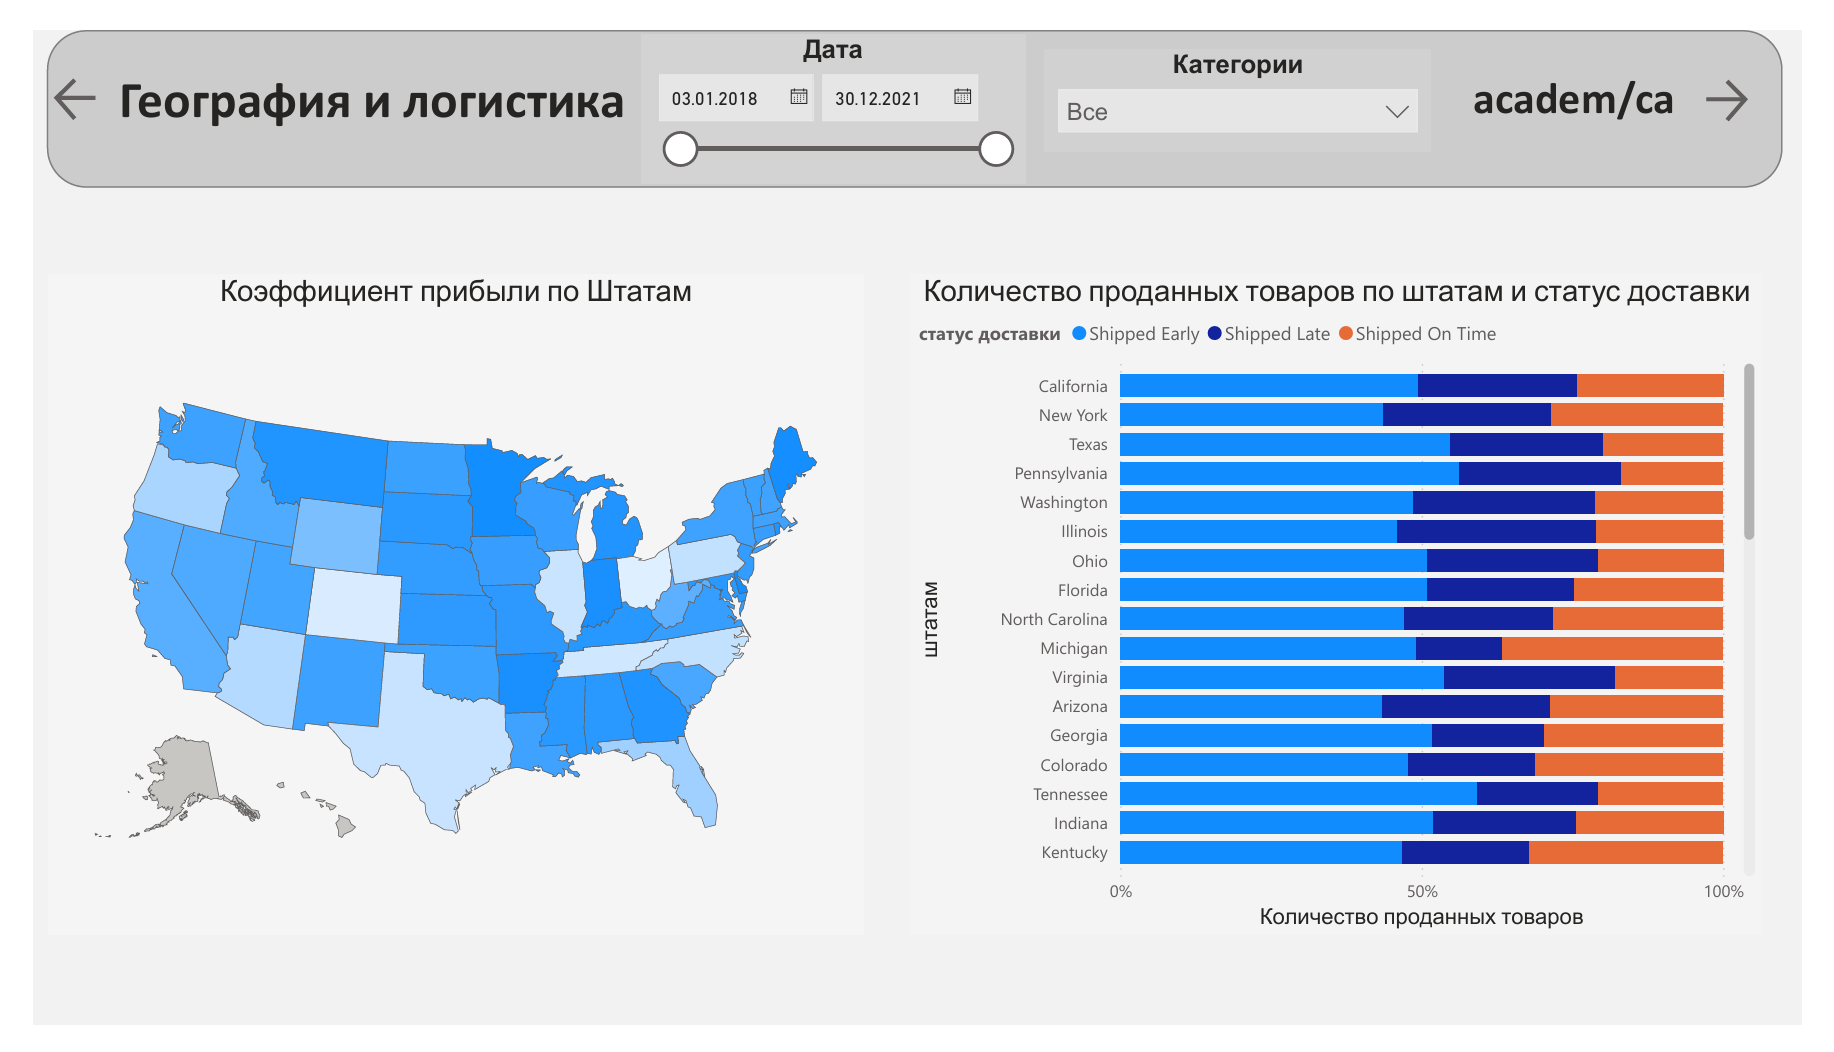

The page's visual inventory and layout, read from the dashboard file:
{"tool":"powerbi","page":{"name":"География","canvas":[1280,720],"ordinal":2},"visuals":[{"type":"shape","box":[10.3,0,1255.2,113.6],"z":0},{"type":"textbox","box":[1025.5,25.3,179.8,50.7],"z":1000},{"type":"textbox","box":[51.9,21.7,387.3,65.1],"z":2000},{"type":"shapeMap","title":"Коэффициент прибыли по Штатам","fields":{"Category":["Sample - Superstore_Orders.State"],"Value":["МЕРЫ.Profit_Ratio"]},"box":[10.9,177.3,589.9,477.8],"z":3000},{"type":"hundredPercentStackedBarChart","fields":{"Category":["Sample - Superstore_Orders.State"],"Series":["Sample - Superstore_Orders.Ship Status"],"Y":["Sum(Sample - Superstore_Orders.Quantity)"]},"box":[635.7,177,615.1,477.9],"z":4000},{"type":"slicer","title":"Дата","fields":{"Values":["Sample - Superstore_Orders.Order Date"]},"box":[439.5,2.9,278.8,107.7],"z":5000},{"type":"slicer","title":"Категории","fields":{"Values":["Sample - Superstore_Orders.Category"]},"box":[731.6,13.6,280.5,74.1],"z":6000},{"type":"actionButton","box":[10.9,30.2,41,39.8],"z":6001},{"type":"actionButton","box":[1205.2,31.4,44.6,39.8],"z":6002}]}

Visuals, with their boxes in screenshot pixels (x1, y1, x2, y2), scaled from the page's 1280x720 canvas onto the 1834x1052 screenshot:
shape: locate(15, 0, 1813, 166)
textbox: locate(1469, 37, 1727, 111)
textbox: locate(74, 32, 629, 127)
"Коэффициент прибыли по Штатам" shapeMap: locate(16, 259, 861, 957)
hundredPercentStackedBarChart - Sample - Superstore_Orders.State x Sample - Superstore_Orders.Ship Status: locate(911, 259, 1792, 957)
"Дата" slicer: locate(630, 4, 1029, 162)
"Категории" slicer: locate(1048, 20, 1450, 128)
actionButton: locate(16, 44, 74, 102)
actionButton: locate(1727, 46, 1791, 104)
